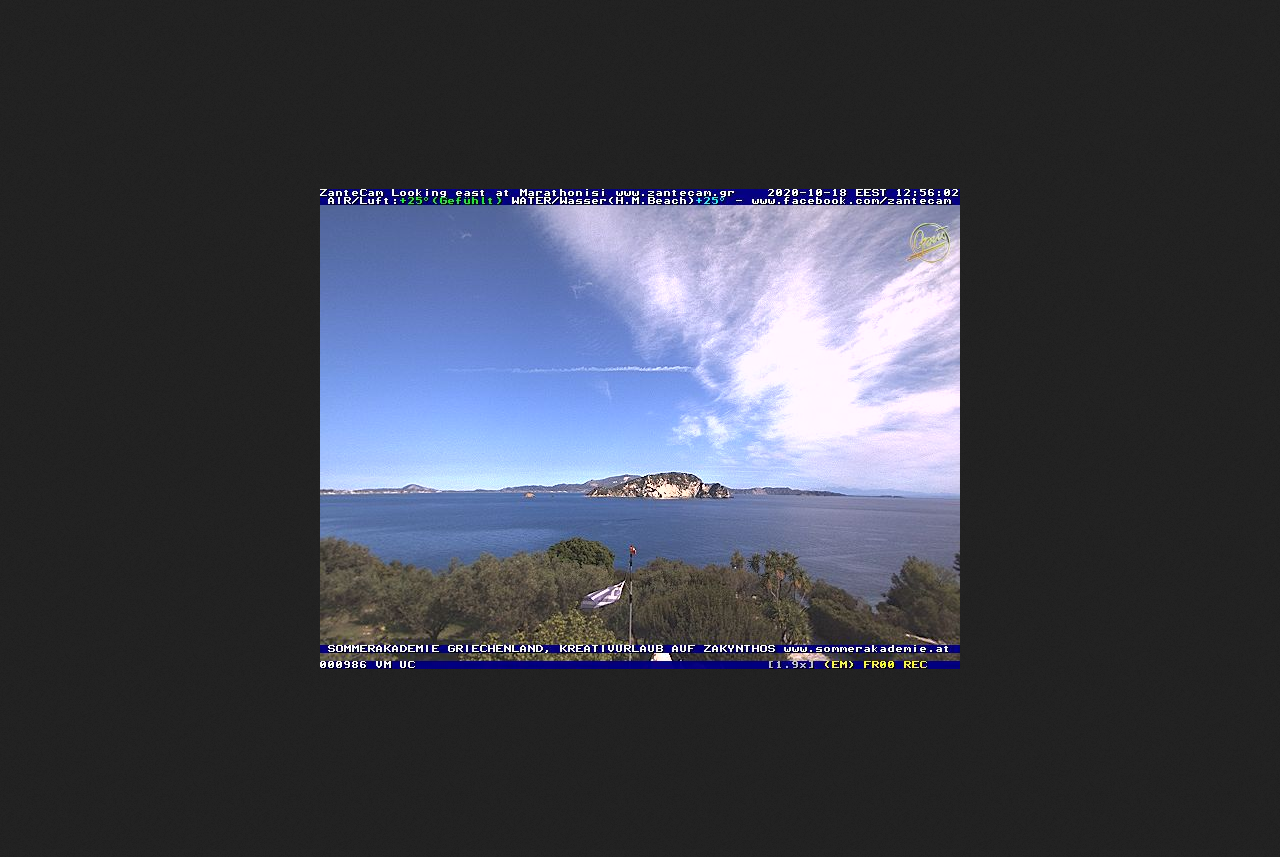yes: (576, 582, 637, 614)
